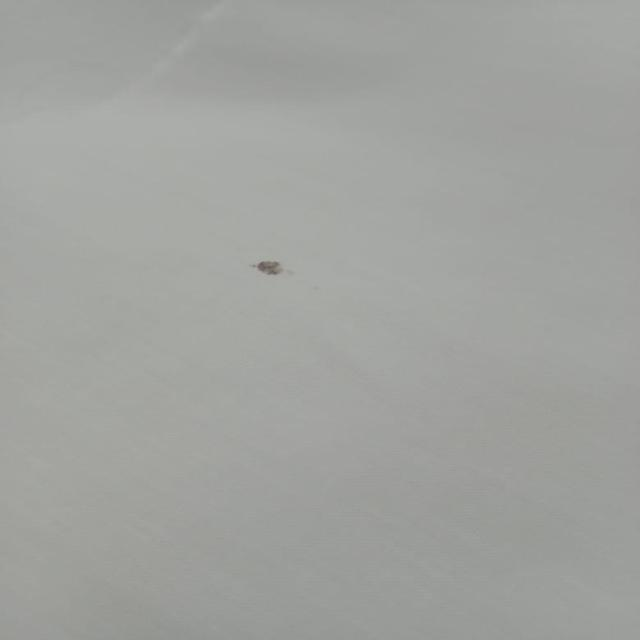stain: (240, 244, 307, 290)
